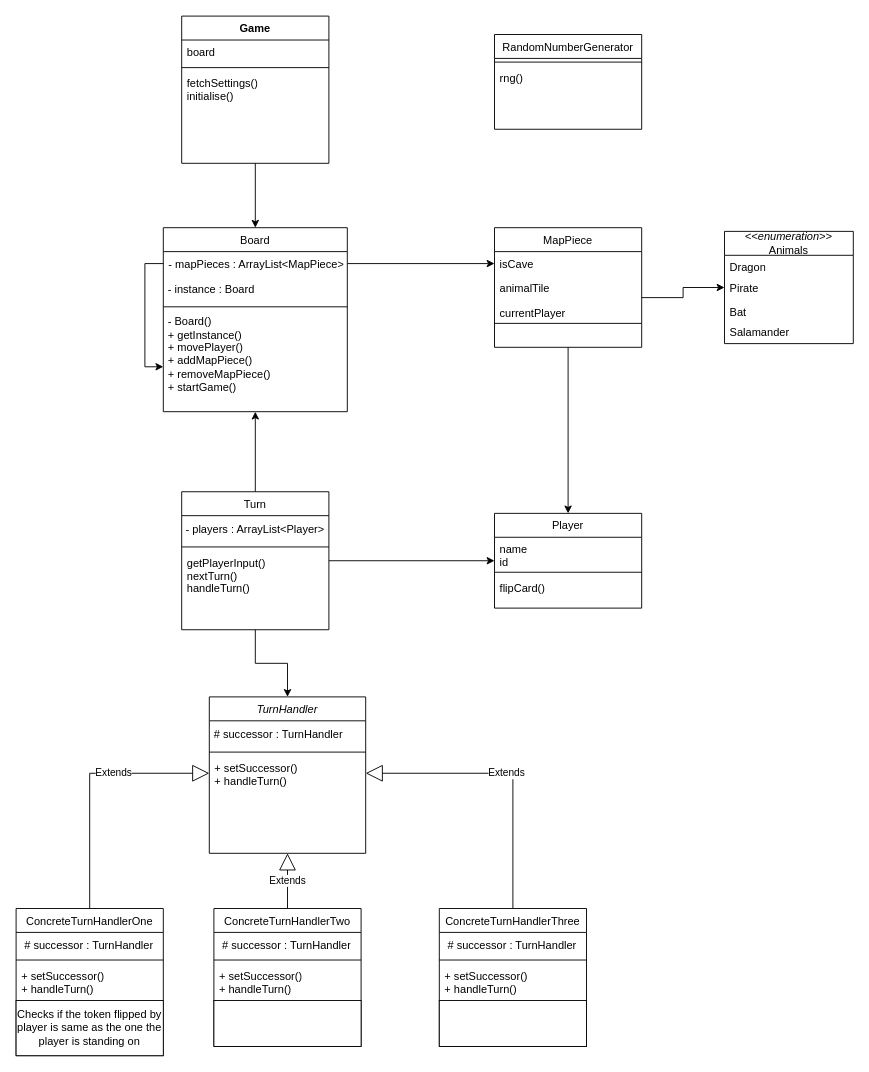
Image size: 869x1072. Some labels were removed from this diagram. The centre of each missing label's shape, as x and y in pixels:
"Checks if the player moves past the winning cave" belongs at point 287,1023.
"checks if there are any tokens on the board the player is moving to" belongs at point 512,1023.
